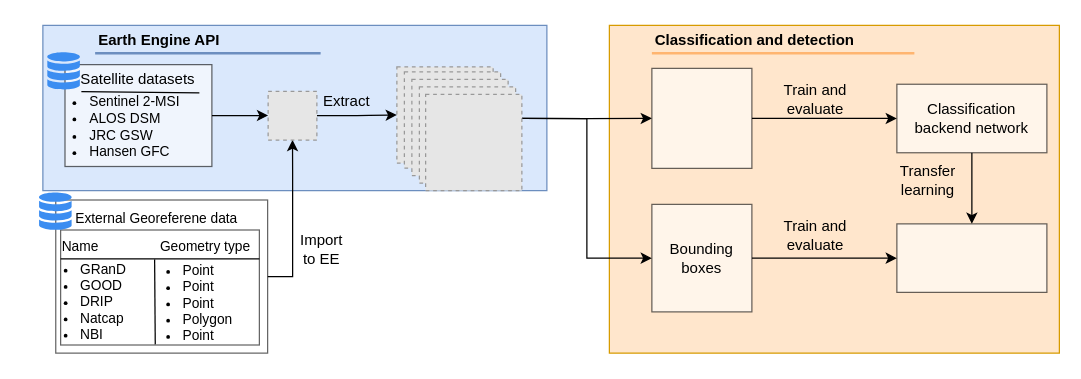
Some shapes in this 1081 by 379 pixel diagram are drawn without their labels. Grey dashed boxes stand in for pictures. Here are the shapes that lost their labels. From the top down, the centre of each, then its label:
At point (701, 117): "Classification data".
At point (971, 257): "Object detection Framework".
